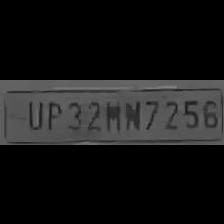2: (159, 96, 179, 130), (84, 97, 103, 131)
3: (63, 97, 83, 131)
5: (179, 96, 199, 128)
6: (200, 94, 220, 128)
7: (141, 96, 159, 130)
M: (102, 97, 120, 130)
N: (121, 97, 141, 131)
P: (43, 97, 62, 131)
U: (23, 97, 43, 131)
